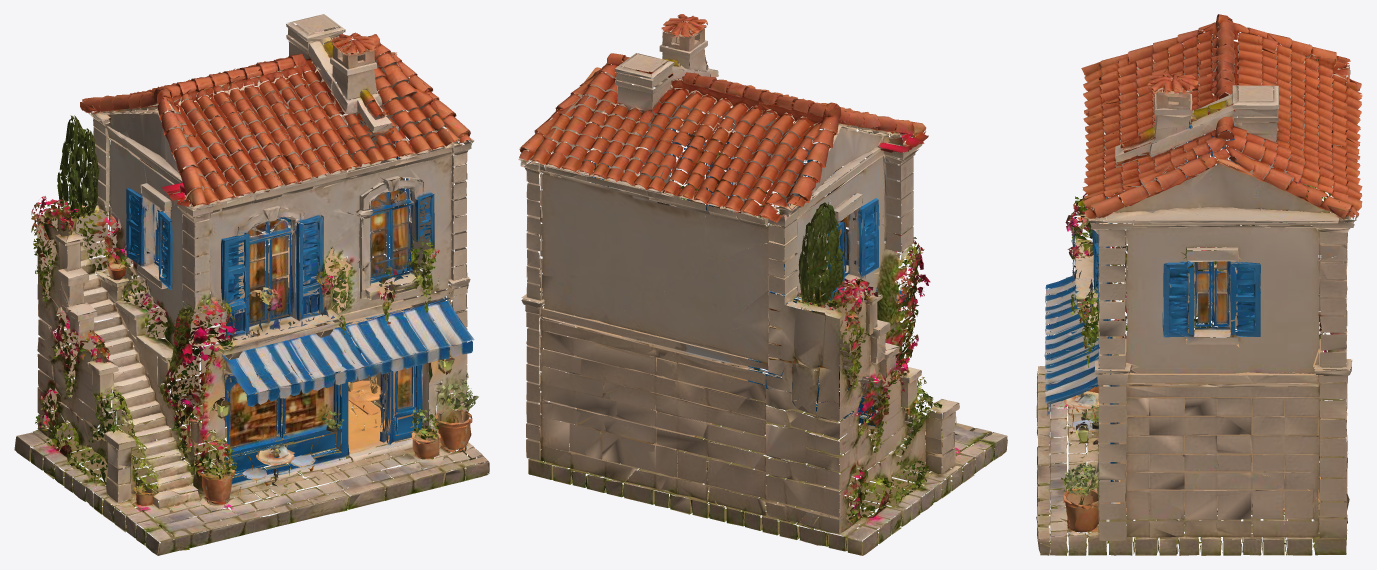
Rendered from base_basic_pbr.glb.
The picture shows the model from 3 angles, left to right: view 1: azimuth 30°, elevation 25°; view 2: azimuth 150°, elevation 25°; view 3: azimuth 270°, elevation 25°; orthographic projection. The views are drawn at different scales.
Visible parts, largest first — view 1: model; view 2: model; view 3: model.
Boxes of the visible parts, x1,y1,x2,y2 form: model: [14, 14, 489, 555]; model: [518, 14, 1007, 555]; model: [1036, 14, 1362, 555].
Size of the model in its own units: 1.67 by 1.9 by 1.27.
Materials: 1 (1 with a texture image).
